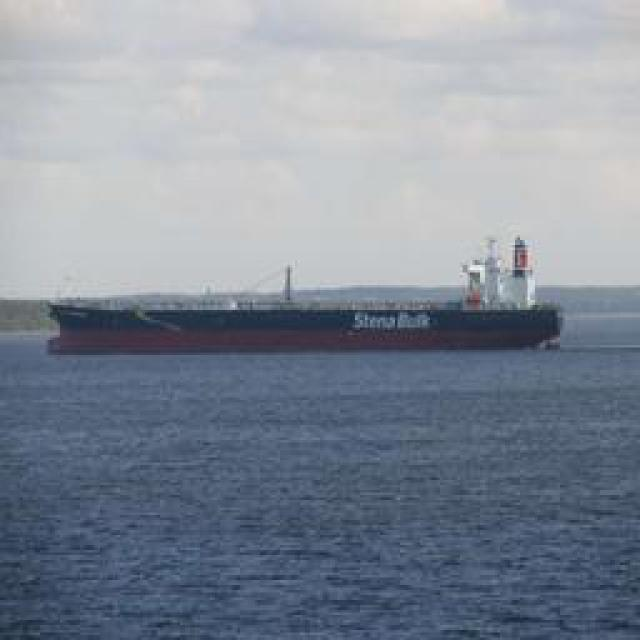Ship: (50, 272, 565, 355)
